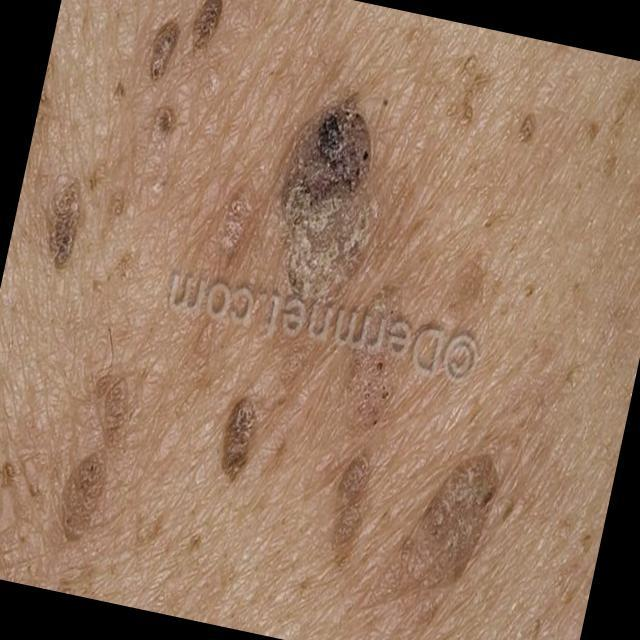Eczema: (20, 7, 495, 620)
